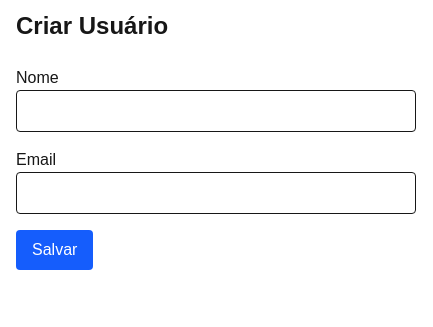
Test: CreateUserPage › should validate required inputs
Click the button "Salvar" at (55, 250), box [16,230,93,270]
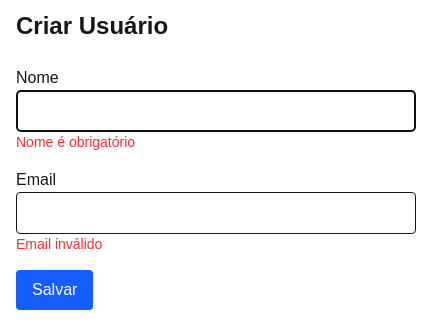
Expected: the text "Nome é obrigatório" is shown, [16,134,135,150]
Expected: the text "Email inválido" is shown, [16,236,102,252]
